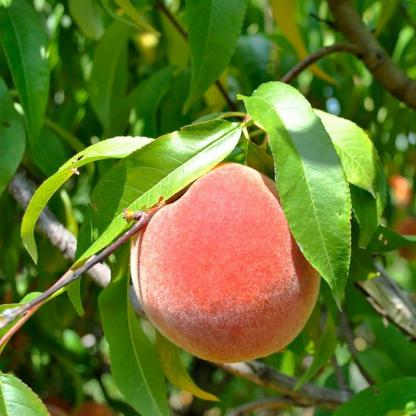Peach leaf: (73, 111, 250, 265), (237, 83, 350, 314), (104, 243, 171, 415), (183, 3, 249, 116), (2, 1, 52, 150)
